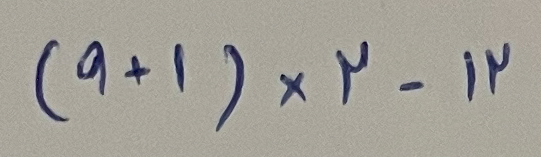character: (213, 43, 247, 134), (35, 38, 68, 127), (336, 40, 370, 108), (76, 40, 107, 101), (485, 42, 512, 94), (277, 69, 307, 108), (123, 54, 153, 88), (173, 41, 187, 95), (463, 50, 476, 103), (399, 79, 426, 94)
